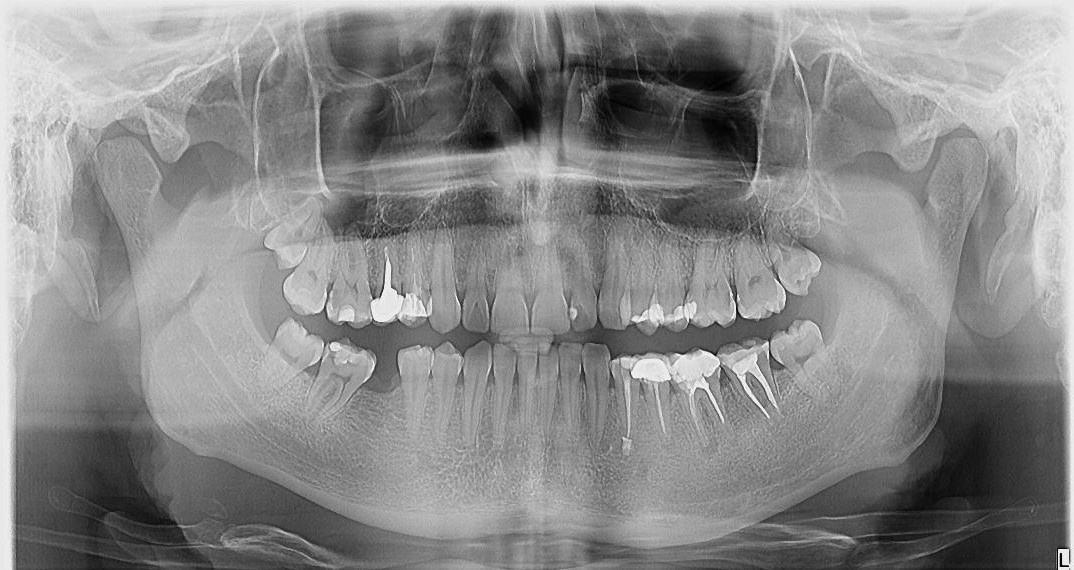API: (691, 430, 724, 465)
CAR: (712, 283, 735, 314), (323, 286, 347, 309), (314, 343, 335, 366)
END: (681, 386, 742, 447), (726, 370, 792, 419), (645, 378, 679, 446), (615, 378, 641, 454), (403, 235, 426, 290)
IMT: (247, 193, 340, 281)
OBT: (664, 346, 718, 388), (718, 333, 769, 375), (396, 282, 442, 327), (325, 339, 387, 370), (766, 318, 817, 354), (625, 300, 666, 332), (329, 300, 363, 332), (561, 303, 588, 328), (615, 351, 641, 373), (684, 295, 704, 322), (673, 302, 689, 324)
